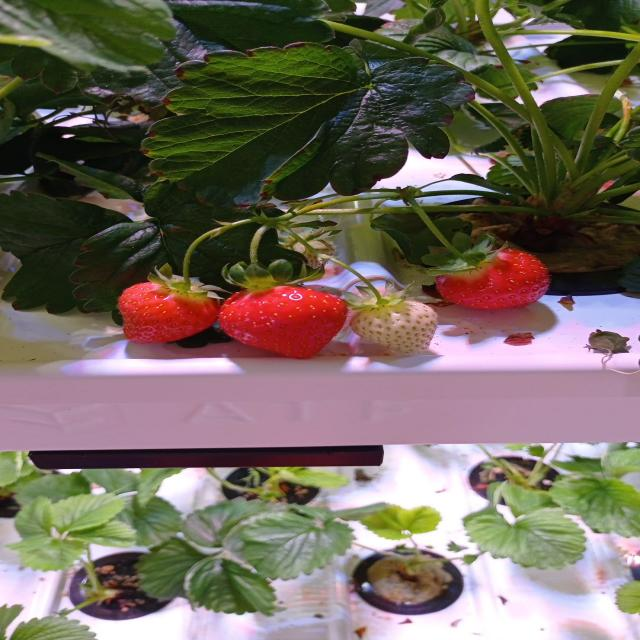Healthy Fruit: (217, 286, 347, 359), (436, 249, 550, 309), (117, 282, 219, 343), (350, 300, 437, 355)
